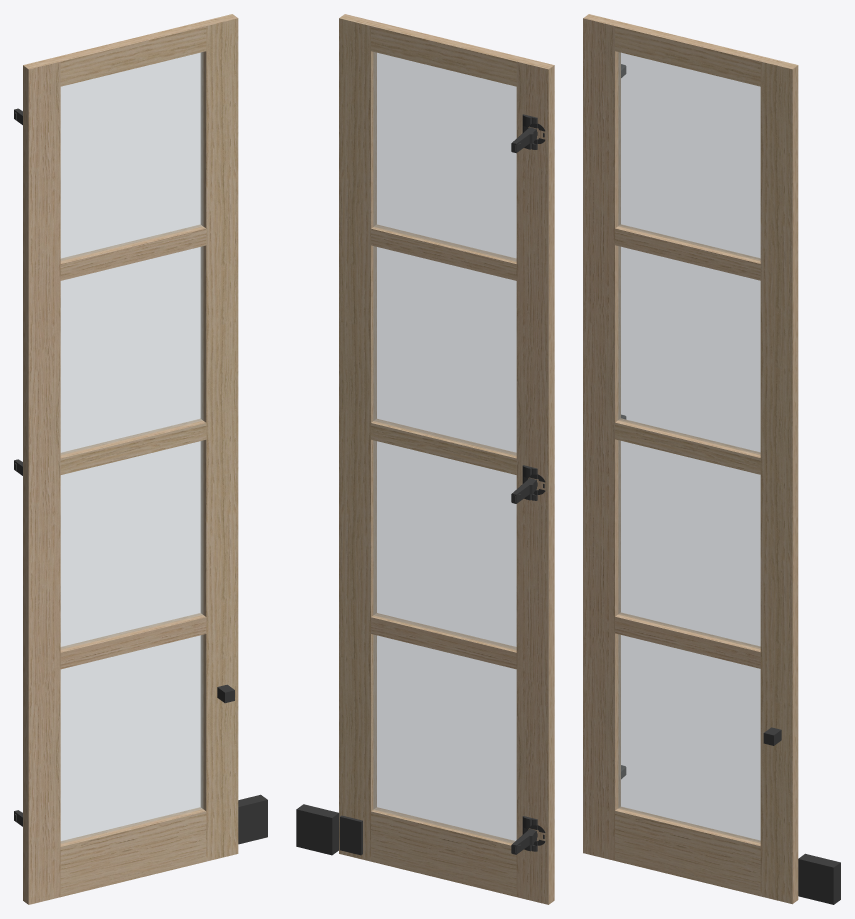
Rendered from Vitrine_V1_dor_1.glb.
3 views of the same model, side by side, from view 1: azimuth 30°, elevation 25°; view 2: azimuth 150°, elevation 25°; view 3: azimuth 330°, elevation 25° (orthographic).
Parts seen in each view (by area): view 1: 2025-284 Vitrineskap; view 2: 2025-284 Vitrineskap, Vitrine V1 dør 1 stil venstre hengsel z2278 Blum 71B3590, Vitrine V1 dør 1 stil venstre hengsel z1022 Blum 71B3590, Vitrine V1 dør 1 stil venstre hengsel z1650 Blum 71B3590; view 3: 2025-284 Vitrineskap.
Boxes of the visible parts, box(x1,y1,x2,y2) form: 2025-284 Vitrineskap: box(23, 14, 267, 904); 2025-284 Vitrineskap: box(296, 14, 554, 904); Vitrine V1 dør 1 stil venstre hengsel z2278 Blum 71B3590: box(511, 114, 545, 153); Vitrine V1 dør 1 stil venstre hengsel z1022 Blum 71B3590: box(511, 816, 545, 854); Vitrine V1 dør 1 stil venstre hengsel z1650 Blum 71B3590: box(511, 465, 545, 503); 2025-284 Vitrineskap: box(583, 14, 840, 904).
Size of the model in its own units: 460 by 1497 by 112.
Materials: 3 (1 with a texture image).
